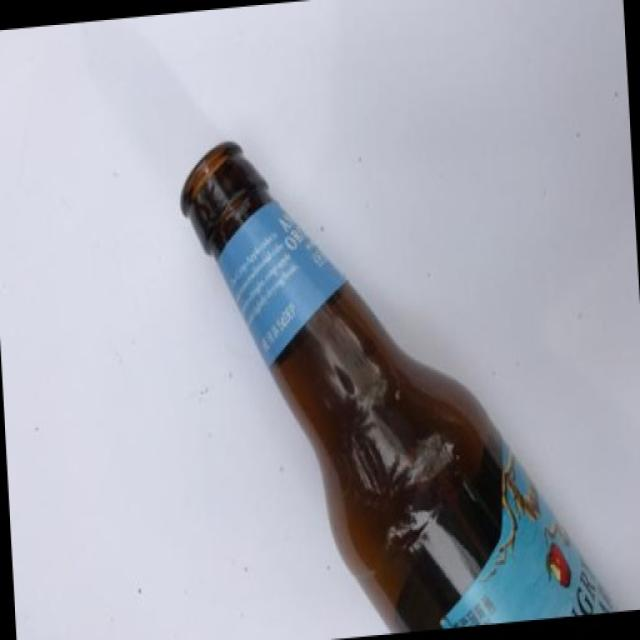vidrio: (159, 71, 640, 640)
